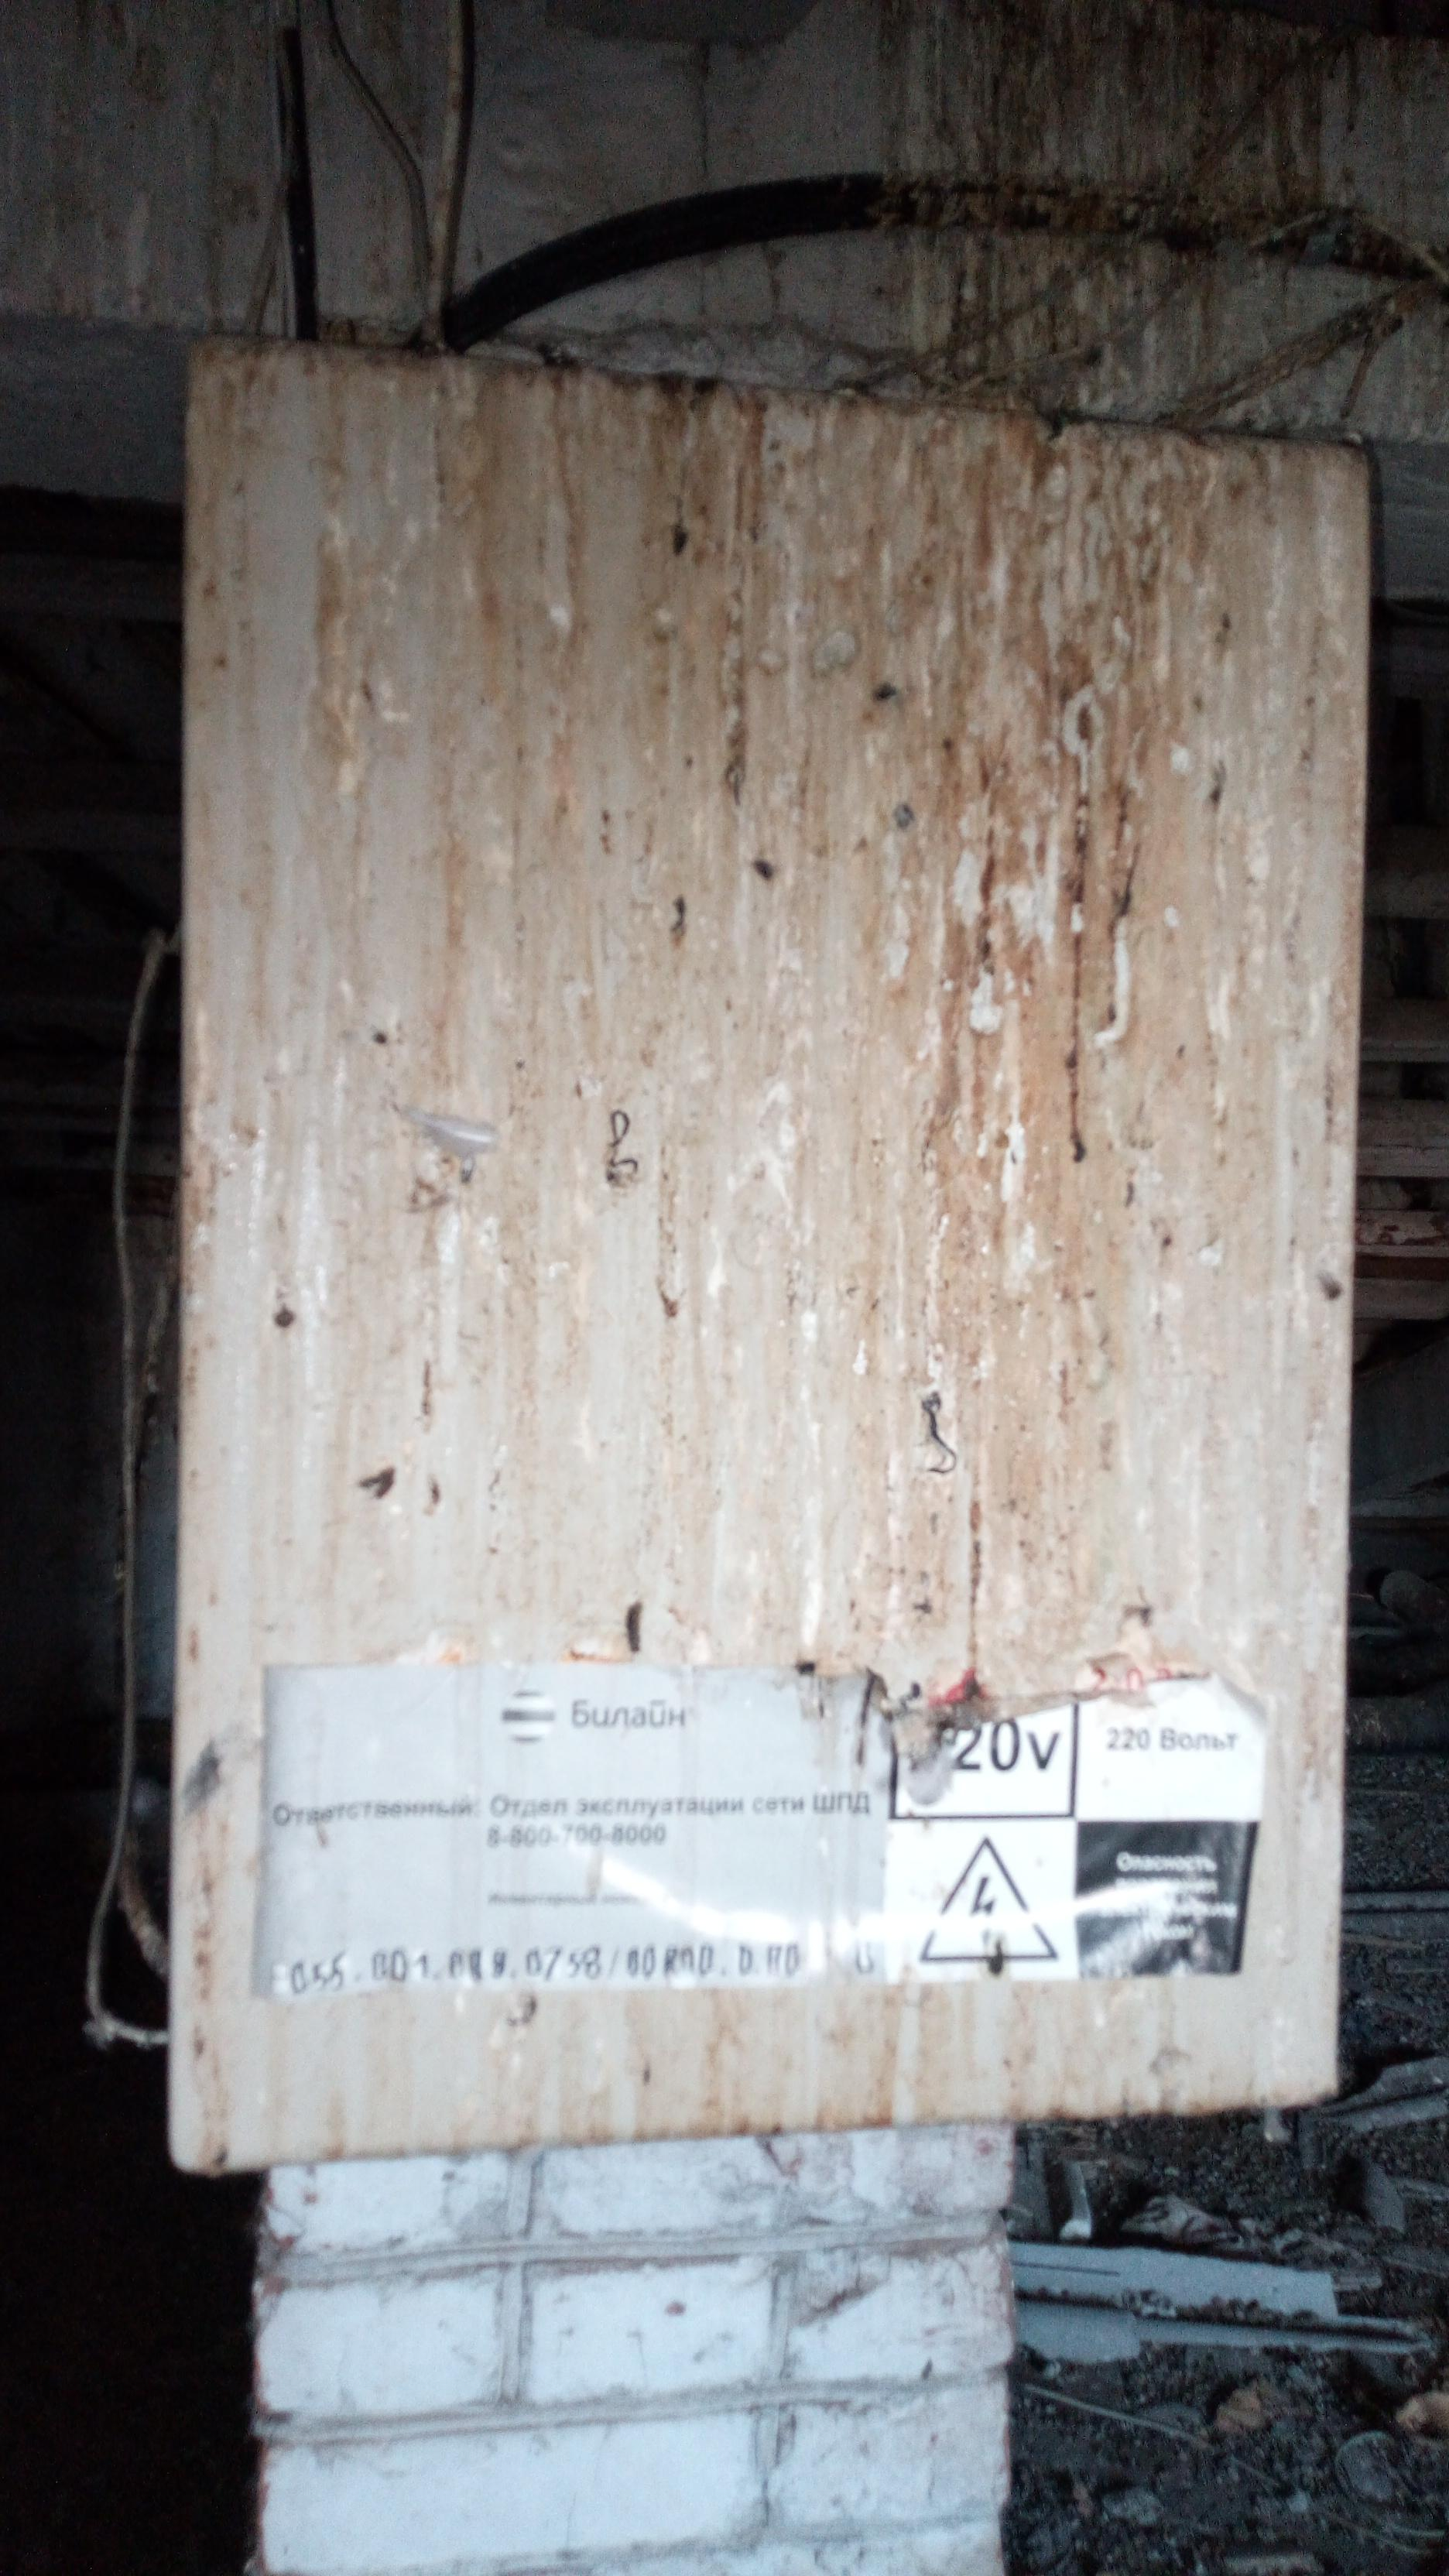sv-5: (154, 303, 1385, 2203)
